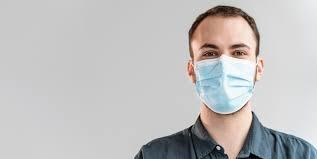mask: (192, 53, 256, 116)
